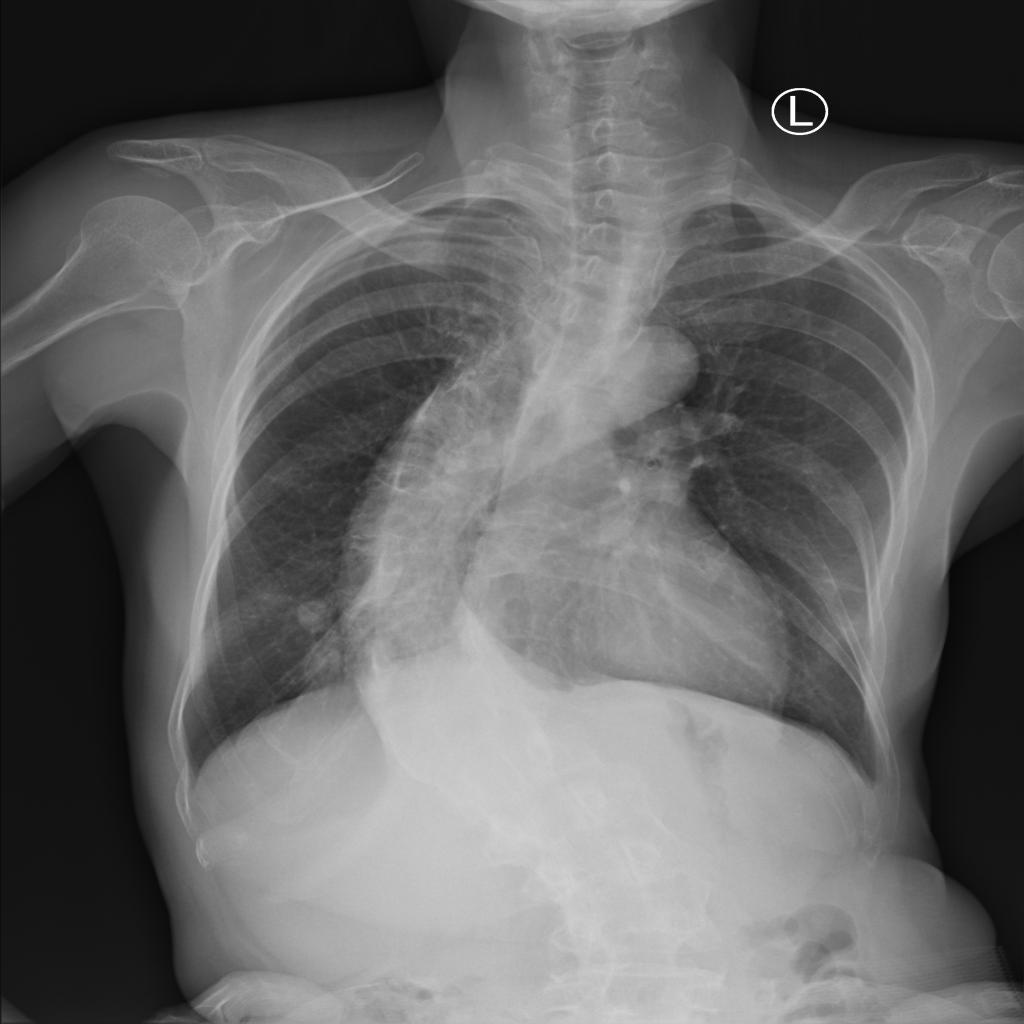Nodule: (265, 585, 367, 704)
